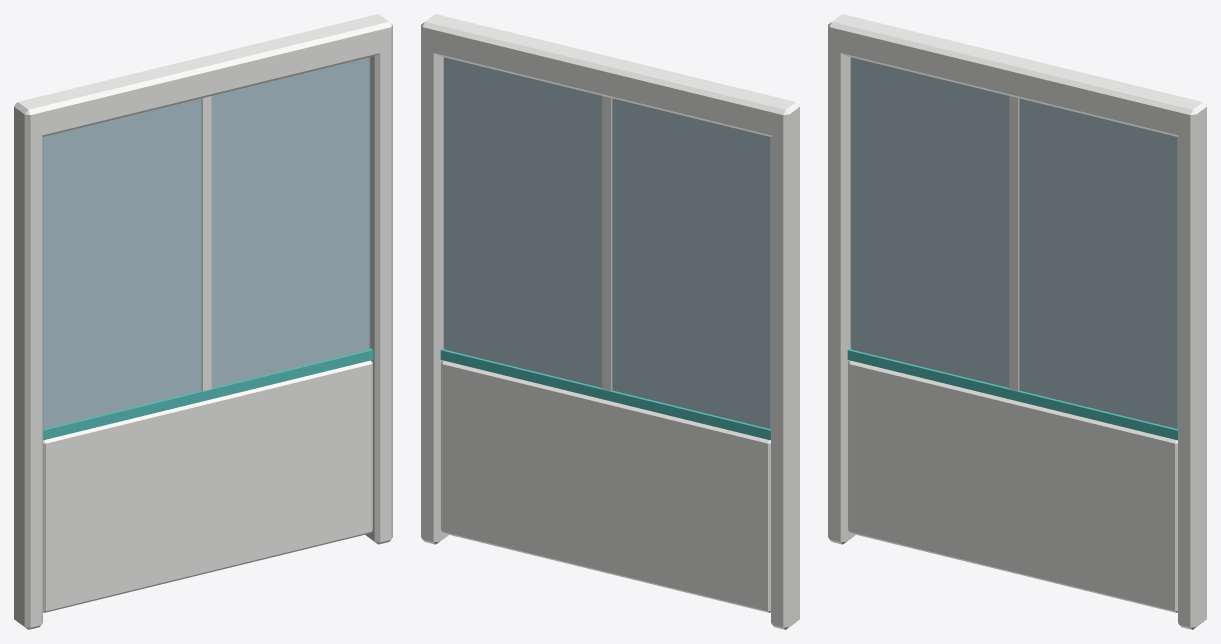
The model's file is ct-room-glazed-wall.glb.
The picture shows the model from 3 angles, left to right: view 1: azimuth 30°, elevation 25°; view 2: azimuth 150°, elevation 25°; view 3: azimuth 330°, elevation 25°; orthographic projection.
Visible parts, largest first — view 1: glazed-partition; view 2: glazed-partition; view 3: glazed-partition.
Boxes of the visible parts, bbox=[...] form: glazed-partition: bbox=[14, 14, 392, 629]; glazed-partition: bbox=[421, 14, 799, 629]; glazed-partition: bbox=[828, 14, 1206, 629].
Size of the model in its own units: 2 by 2.7 by 0.1401.
